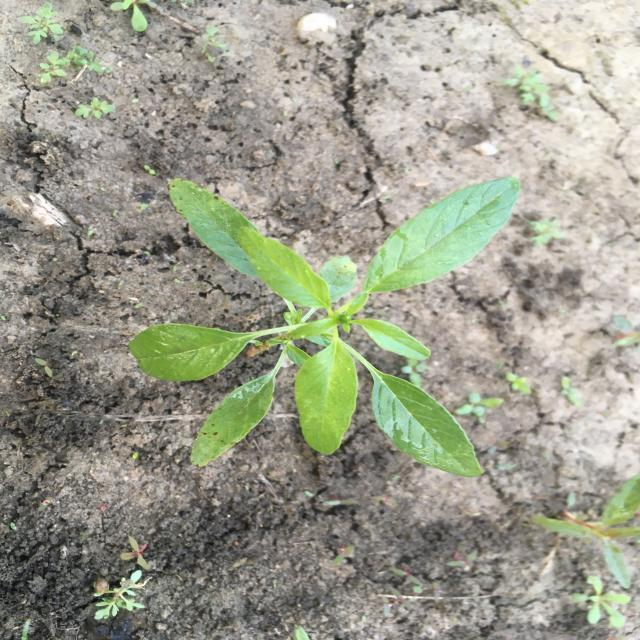Carpetweed: (568, 576, 634, 630), (110, 0, 159, 36)
Ragweed: (90, 568, 148, 624), (19, 4, 70, 47)
Waterhemp: (125, 174, 523, 480), (524, 467, 638, 594)
